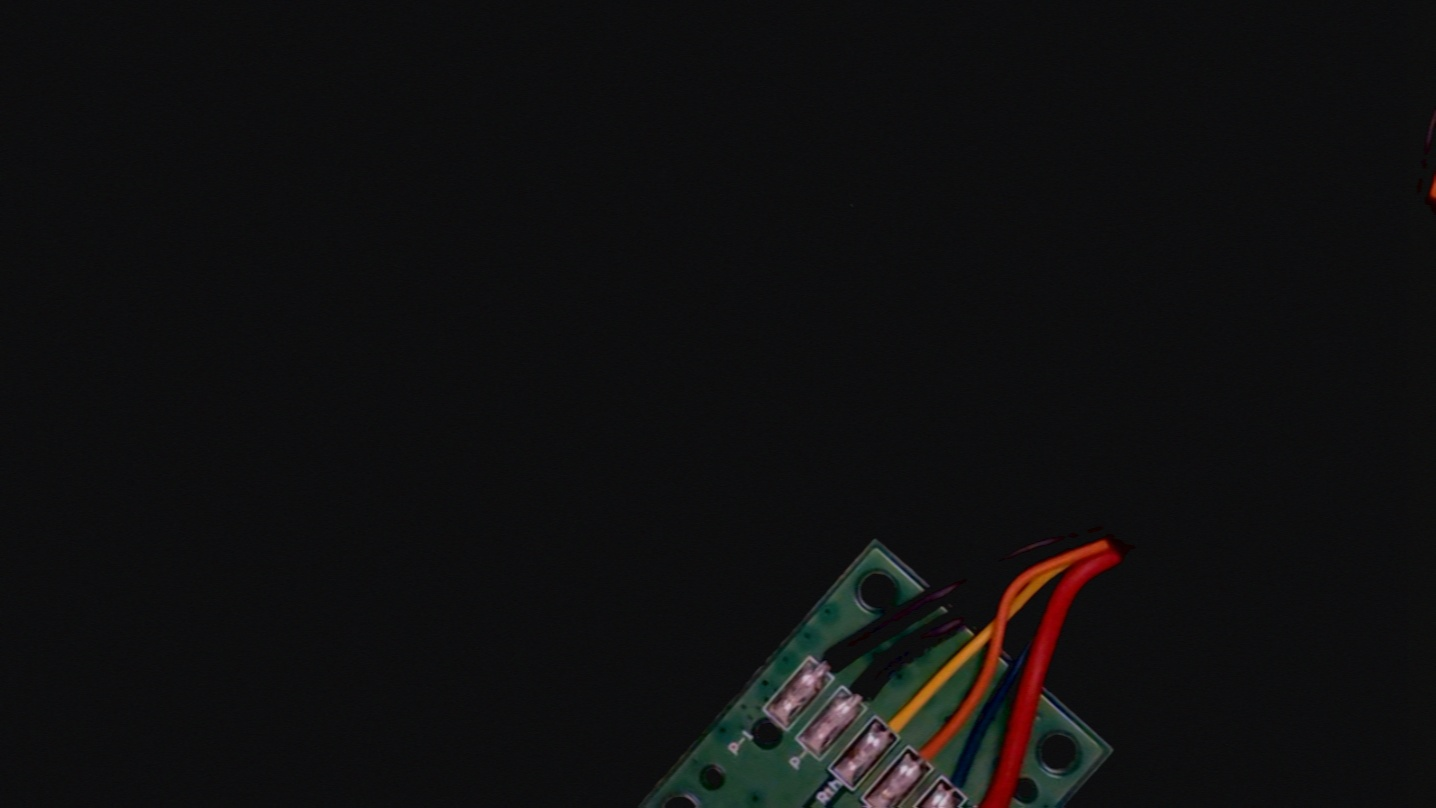Black: (829, 647, 905, 725)
Black1: (796, 615, 875, 695)
Green: (927, 742, 1000, 808)
Orange: (896, 706, 972, 783)
Red: (962, 760, 1045, 808)
Yellow: (864, 679, 940, 756)
